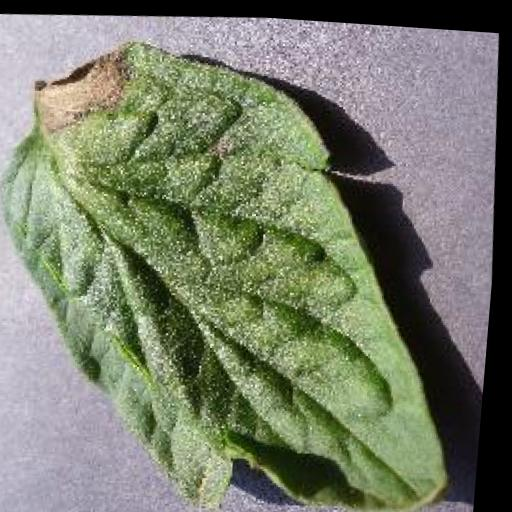Late Blight: (0, 10, 483, 512)
